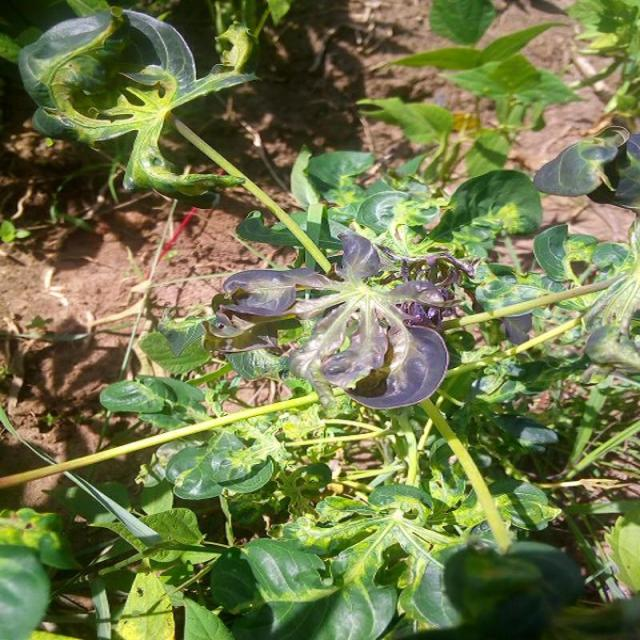cassava leaf: (16, 4, 258, 200), (213, 227, 454, 413)
